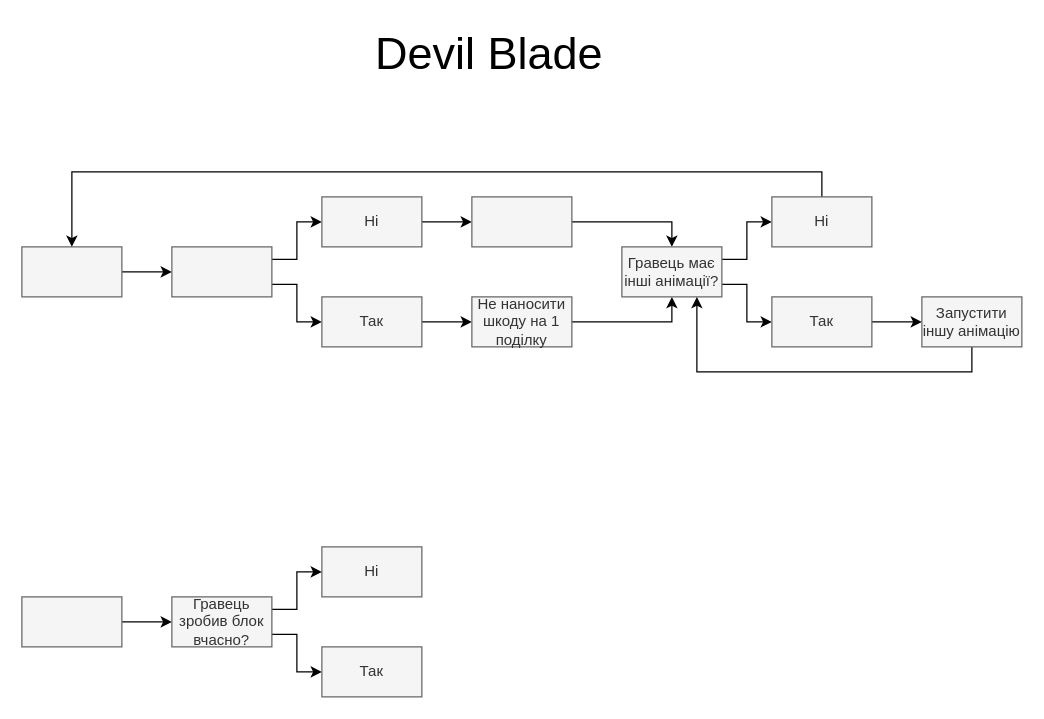
Image size: 1044x719. Some labels were removed from this diagram. The shapes that lost their labels are listed below. From the top down, each one's centre as x and y in pixels, then its label:
At [521,221]: "Нанести шкоду на 1 поділку".
At [71,271]: "Удар катаною".
At [221,271]: "Противник заблокував удар?".
At [71,621]: "Блок".
